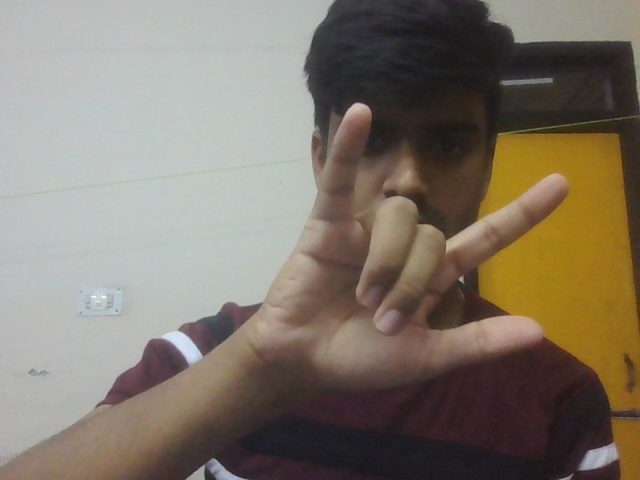iloveyou: (233, 89, 599, 409)
